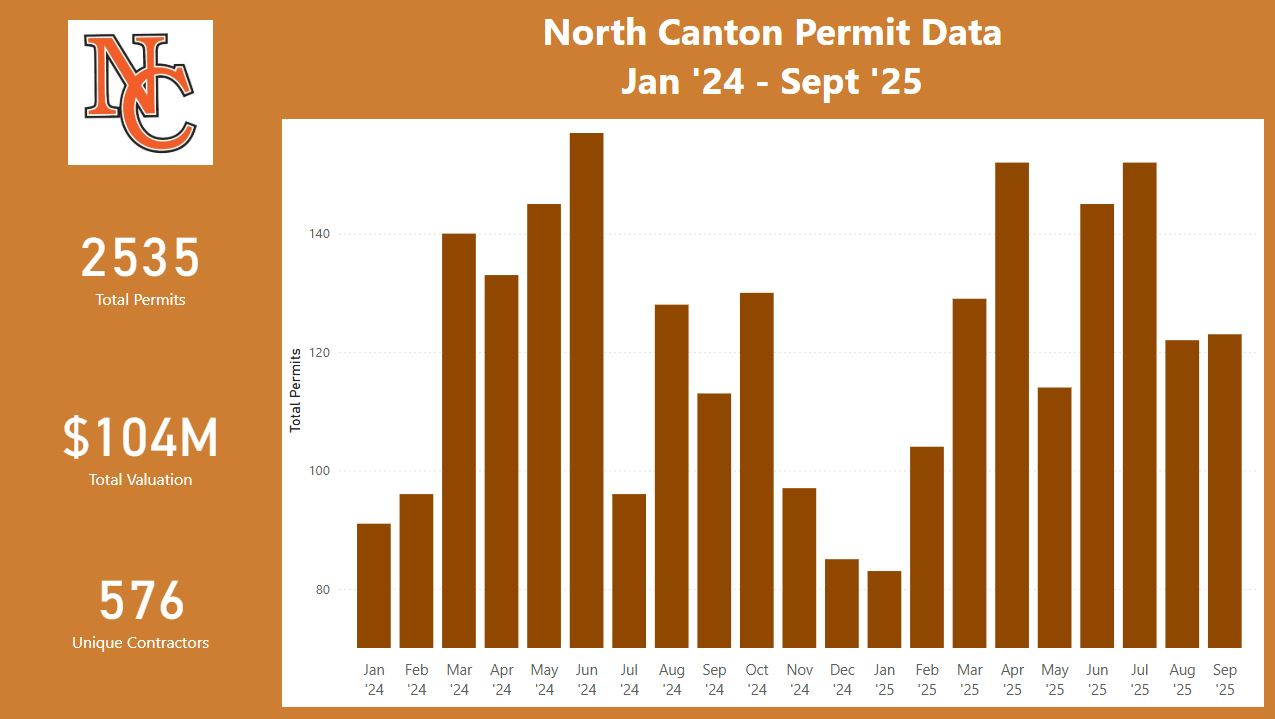

What the dashboard file says about the page in this screenshot:
{"tool":"powerbi","page":{"name":"KPIs","canvas":[1280,720],"ordinal":0},"visuals":[{"type":"card","fields":{"Values":["permits_gold.Total Permits"]},"box":[0,169.7,284.9,180],"z":0},{"type":"card","fields":{"Values":["permits_gold.Total Valuation"]},"box":[0,349.9,284.9,180],"z":1000},{"type":"card","fields":{"Values":["Count(permits_gold.Contractor)"]},"box":[0,513.3,284.9,180],"z":2000},{"type":"columnChart","fields":{"Y":["permits_gold.Total Permits"],"Category":["Date.YearMonth_Label"]},"box":[284.4,118.9,981.1,587.8],"z":3000},{"type":"textbox","box":[284.4,0,981,119.6],"z":4000},{"type":"image","box":[60.8,14.7,163.4,155],"z":5000}]}

Visuals, with their boxes in screenshot pixels (x1, y1, x2, y2), scaled from the page's 1280x720 canvas onto the 1275x719 screenshot:
card - permits_gold.Total Permits: {"x1": 0, "y1": 169, "x2": 284, "y2": 349}
card - permits_gold.Total Valuation: {"x1": 0, "y1": 349, "x2": 284, "y2": 529}
card - Count(permits_gold.Contractor): {"x1": 0, "y1": 513, "x2": 284, "y2": 692}
columnChart - permits_gold.Total Permits x Date.YearMonth_Label: {"x1": 283, "y1": 119, "x2": 1261, "y2": 706}
textbox: {"x1": 283, "y1": 0, "x2": 1260, "y2": 119}
image: {"x1": 61, "y1": 15, "x2": 223, "y2": 169}
